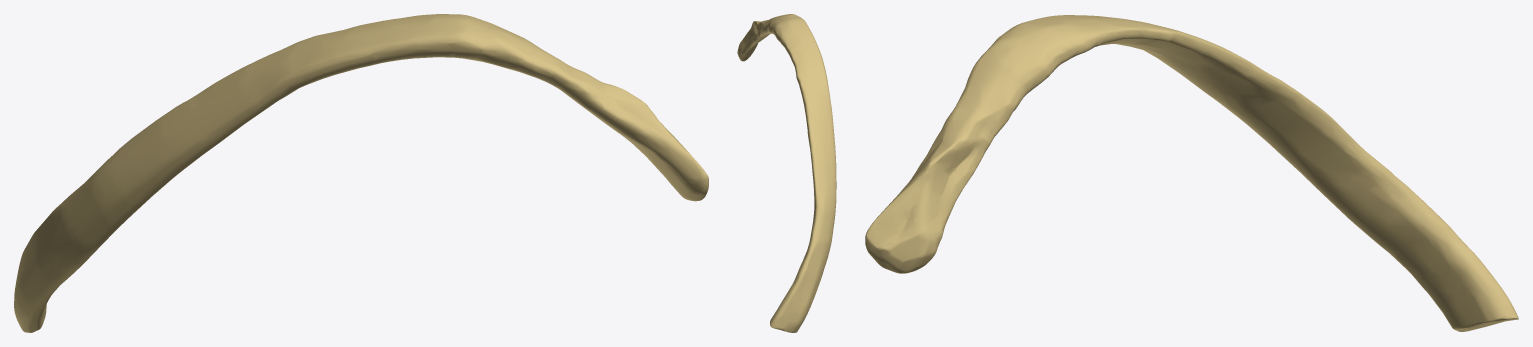
3 renders of one model, left to right at view 1: azimuth 30°, elevation 25°; view 2: azimuth 150°, elevation 25°; view 3: azimuth 270°, elevation 25°, orthographic. The views are drawn at different scales.
Visible parts, largest first — view 1: 右侧第十肋; view 2: 右侧第十肋; view 3: 右侧第十肋.
Boxes of the visible parts, x1,y1,x2,y2 form: 右侧第十肋: [14, 14, 708, 332]; 右侧第十肋: [737, 14, 836, 332]; 右侧第十肋: [865, 15, 1518, 331].
Bounding box in the file's own units: 0.1664 × 0.1612 × 0.2311.
